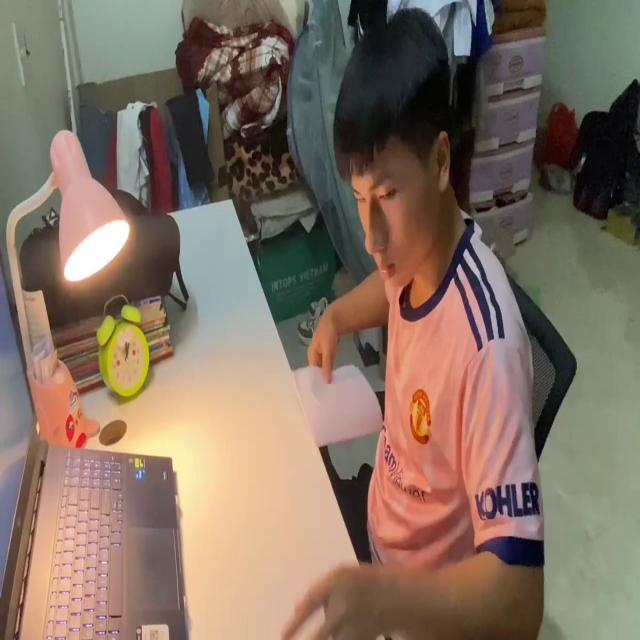book: (294, 366, 382, 448)
laptop: (0, 249, 188, 640)
student: (282, 6, 550, 640)
